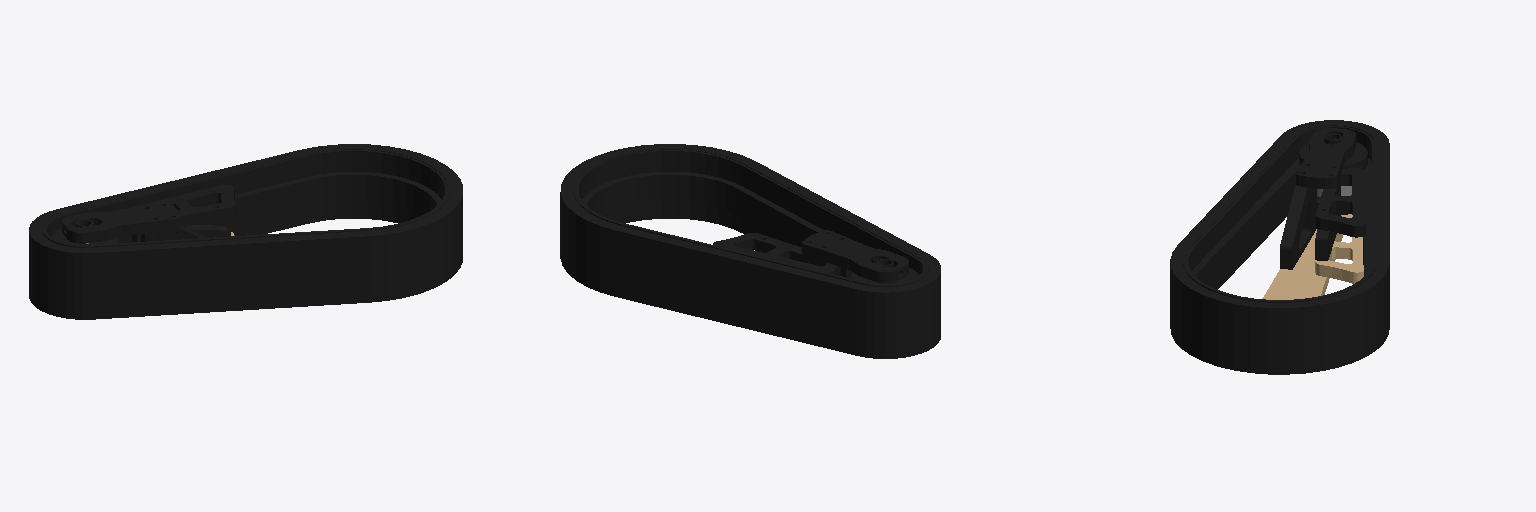
File: JaguarFlipper1MinusWheel.obj
The picture shows the model from 3 angles: view 1: azimuth 30°, elevation 25°; view 2: azimuth 150°, elevation 25°; view 3: azimuth 270°, elevation 25°; orthographic projection.
Parts seen in each view (by area): view 1: default; view 2: default; view 3: default.
Boxes of the visible parts, <box> form: default: <box>29,144,462,319</box>; default: <box>560,144,940,358</box>; default: <box>1170,120,1389,374</box>.
Size of the model in its own units: 4.15 by 0.9983 by 2.05.